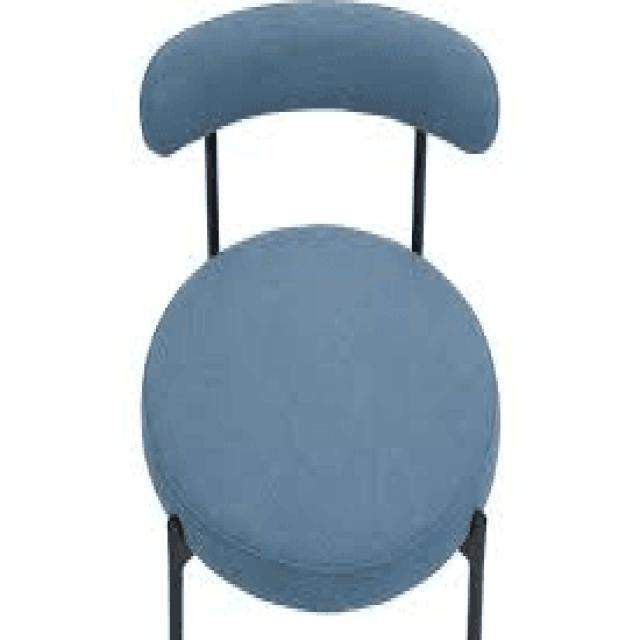chair: (129, 0, 510, 640), (139, 0, 500, 611)
